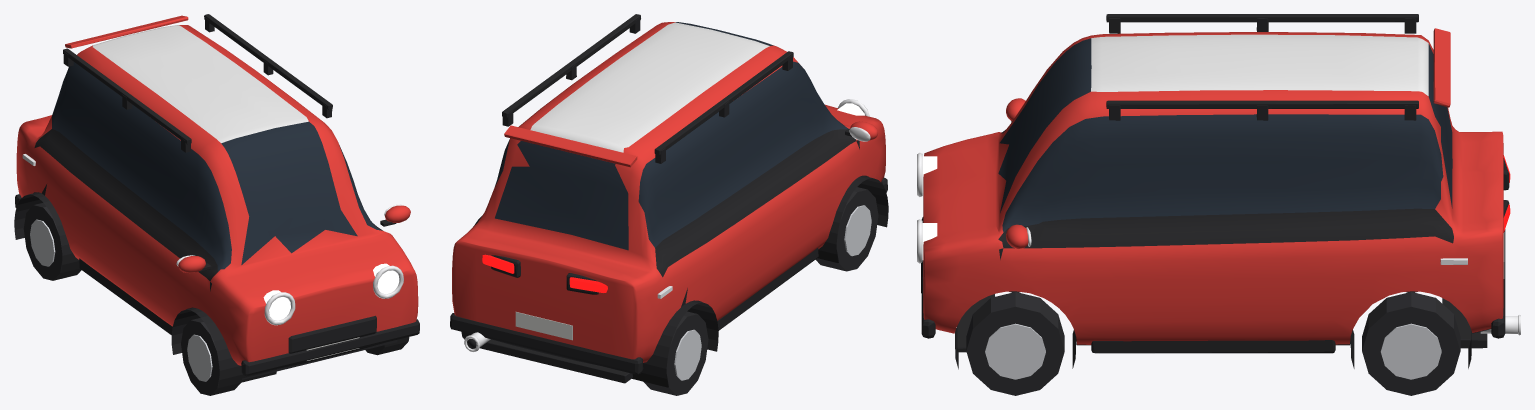
Rendered from kubo_lod.glb.
3 views of the same model, side by side, from view 1: azimuth 30°, elevation 25°; view 2: azimuth 150°, elevation 25°; view 3: azimuth 270°, elevation 25° (orthographic). The views are drawn at different scales.
Visible parts, largest first — view 1: body, wheel_fr, wheel_rr, wheel_fl; view 2: body, wheel_rr, wheel_fr; view 3: body, wheel_fl, wheel_rl.
Boxes of the visible parts, bbox=[...] form: body: bbox=[14, 14, 419, 388]; wheel_fr: bbox=[181, 318, 240, 395]; wheel_rr: bbox=[23, 202, 81, 280]; wheel_fl: bbox=[365, 337, 409, 355]; body: bbox=[450, 14, 888, 387]; wheel_rr: bbox=[643, 311, 708, 395]; wheel_fr: bbox=[815, 187, 878, 271]; body: bbox=[917, 14, 1520, 369]; wheel_fl: bbox=[966, 292, 1064, 395]; wheel_rl: bbox=[1362, 292, 1460, 395].
Size of the model in its own units: 1.91 by 1.75 by 3.43.
